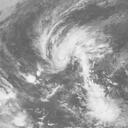cyclone: (33, 27, 86, 77)
